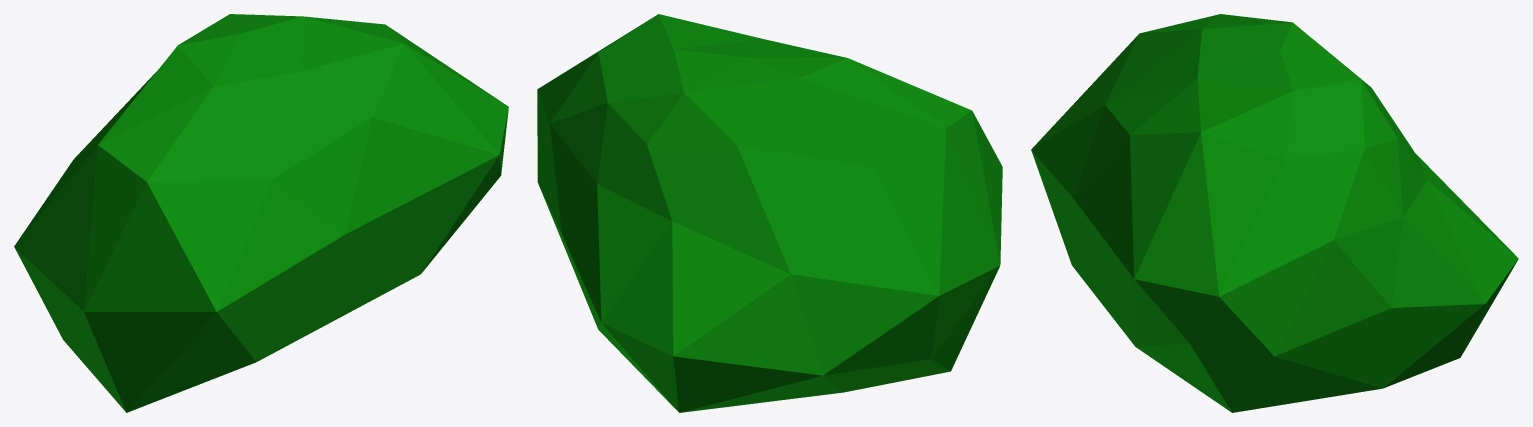
File: lp_tree1_Icosphere_014.obj
3 views of the same model, side by side, from view 1: azimuth 30°, elevation 25°; view 2: azimuth 150°, elevation 25°; view 3: azimuth 270°, elevation 25° (orthographic). The views are drawn at different scales.
Visible parts, largest first — view 1: lp_tree1_Icosphere_014; view 2: lp_tree1_Icosphere_014; view 3: lp_tree1_Icosphere_014.
Boxes of the visible parts, box(x1,y1,x2,y2) form: lp_tree1_Icosphere_014: box(14, 14, 508, 412); lp_tree1_Icosphere_014: box(537, 14, 1002, 412); lp_tree1_Icosphere_014: box(1031, 14, 1518, 412).
Size of the model in its own units: 6.62 by 4.34 by 5.76.
